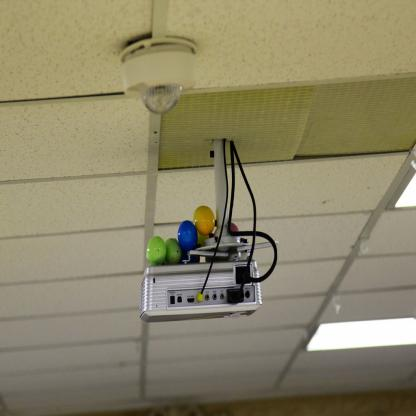Ball: (178, 221, 198, 254), (195, 206, 215, 234), (146, 236, 166, 263), (166, 238, 182, 264)
